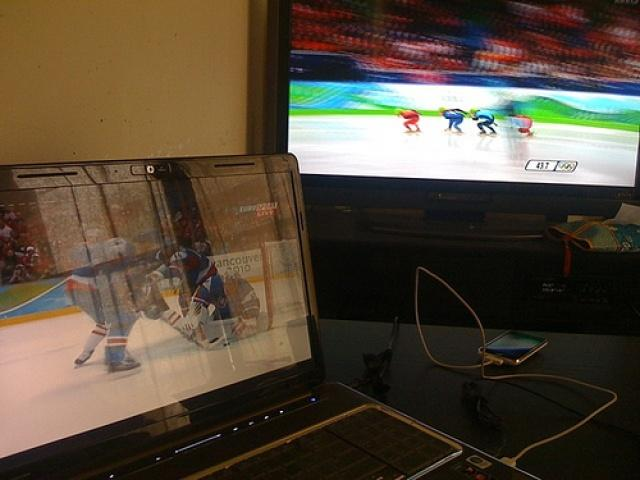AIO PC-Monitor-TV: (273, 0, 639, 207)
